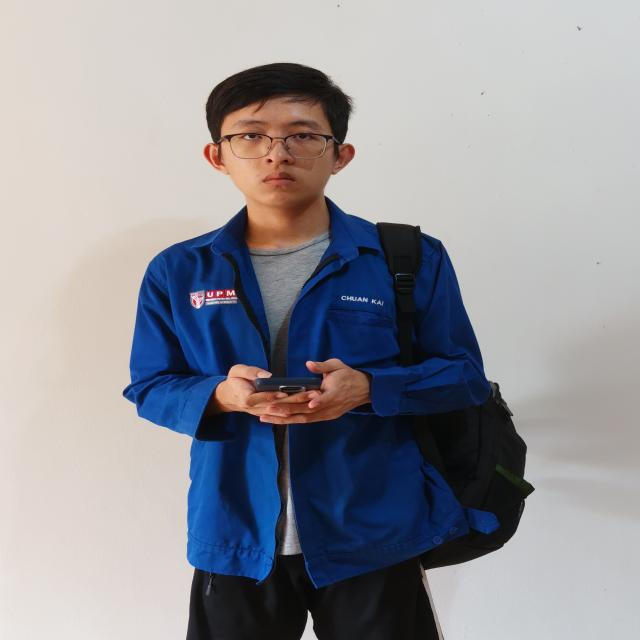person_with_labcoat: (124, 63, 533, 640)
